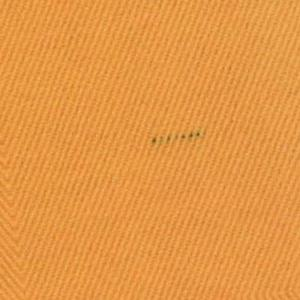stain: (145, 128, 210, 151)
